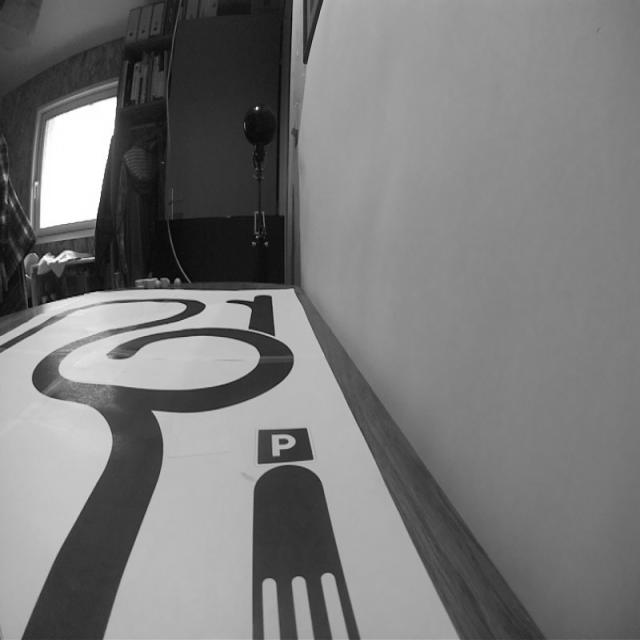Parking: (249, 415, 319, 469)
zebracross: (239, 568, 374, 640)
